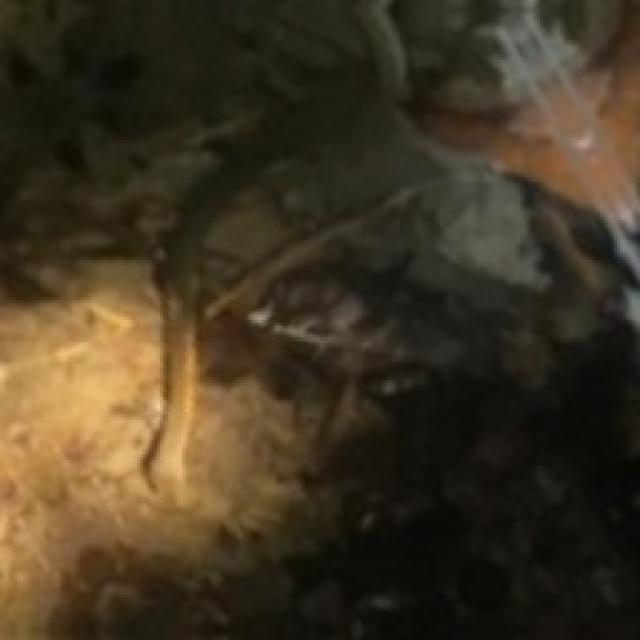king cobra: (123, 0, 637, 637)
